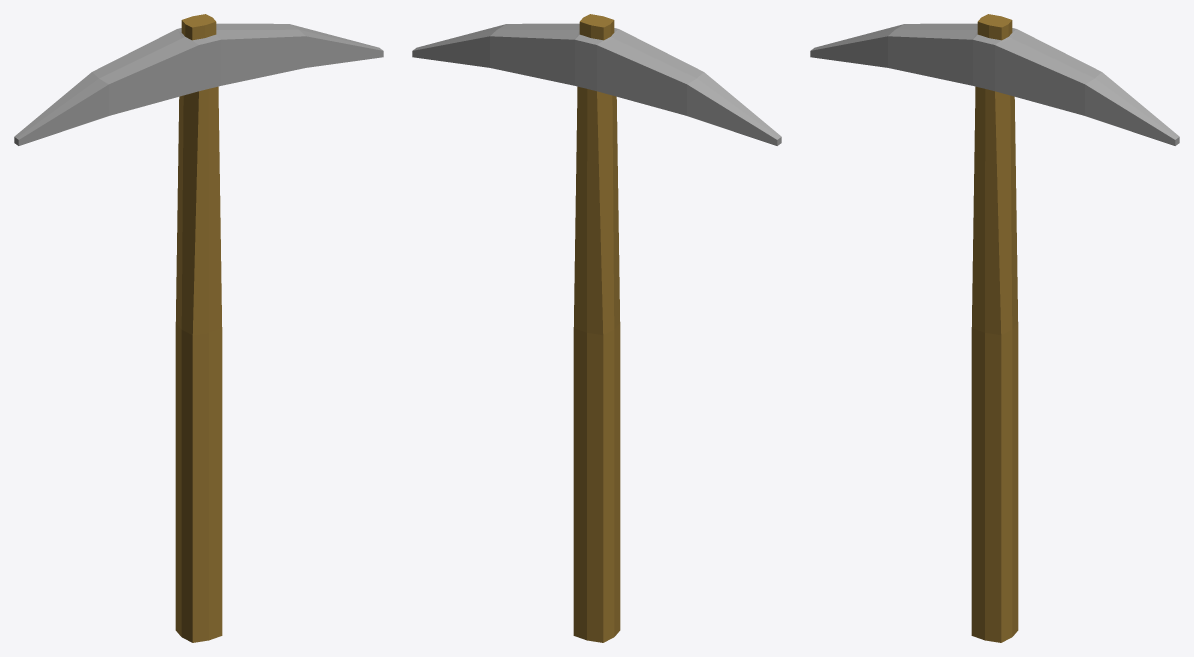
Rendered from Pick.fbx.
The picture shows the model from 3 angles, left to right: view 1: azimuth 30°, elevation 25°; view 2: azimuth 150°, elevation 25°; view 3: azimuth 330°, elevation 25°; orthographic projection.
Parts seen in each view (by area): view 1: Pick; view 2: Pick; view 3: Pick.
Part boxes in pixels (x1=…): Pick: x1=14, y1=14, x2=383, y2=642; Pick: x1=412, y1=14, x2=781, y2=642; Pick: x1=810, y1=14, x2=1179, y2=642.
Size of the model in its own units: 0.6208 by 0.9953 by 0.0649.
